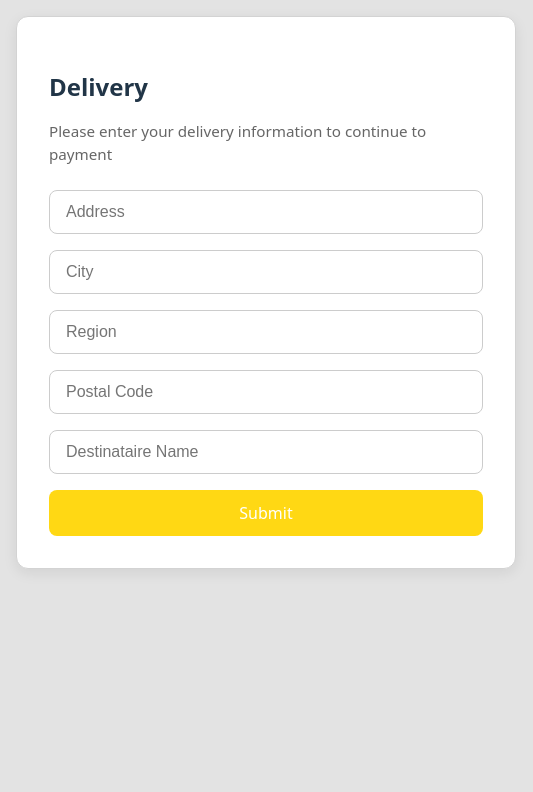
Test: DeliveryForm › User Interactions › should clear validation errors when user starts typing in fields
The image size is (533, 792).
# First trigger validation errors
Click the button "Submit": coordinates (266, 513) left=49, top=490, right=483, bottom=536
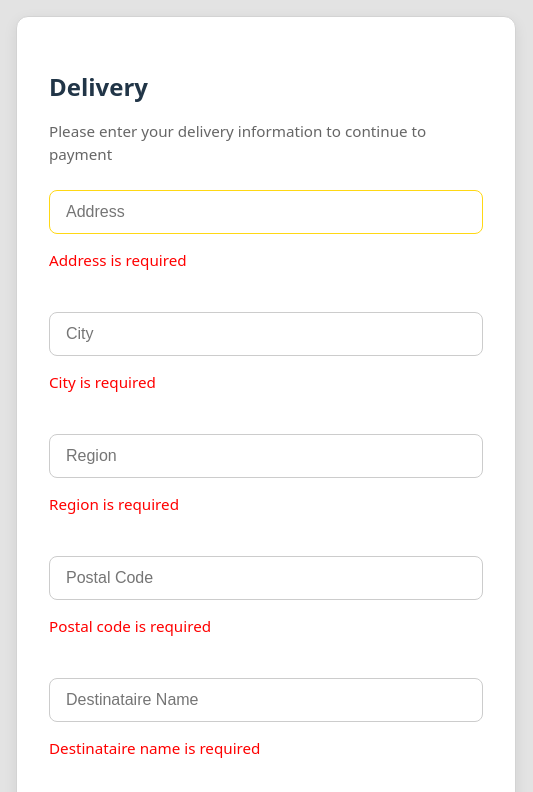
Result: the text "Address is required" is shown at left=49, top=250, right=187, bottom=270
# Then type in the address field
In the field with placeholder "Address": coordinates (266, 212) left=49, top=190, right=483, bottom=234, type "New Address"
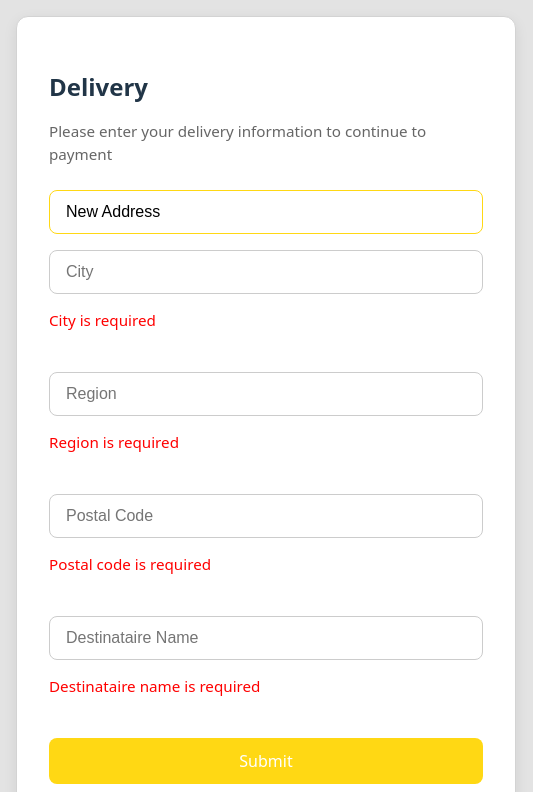
Result: the text "Address is required" is gone
